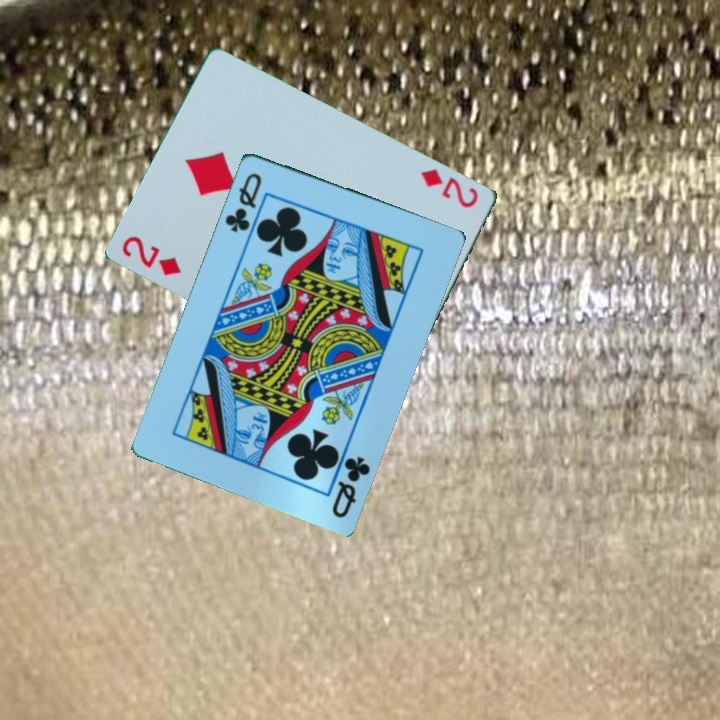2d: (119, 232, 185, 281), (417, 165, 482, 211)
Qc: (328, 452, 373, 521), (220, 168, 265, 235)
